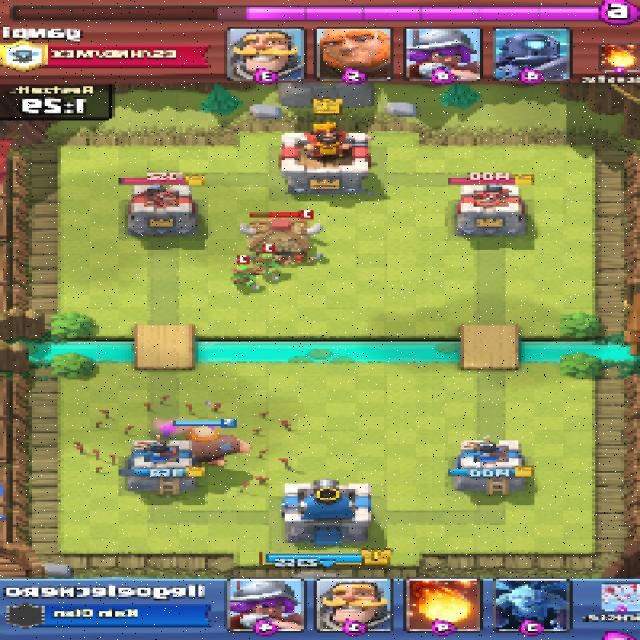Enemy-Arrow: (71, 397, 299, 494)
Enemy-GoblinHut: (239, 218, 324, 262)
Enemy-SpearGoblin: (227, 264, 258, 290), (256, 256, 282, 274)
Player-Giant: (186, 426, 248, 466)
